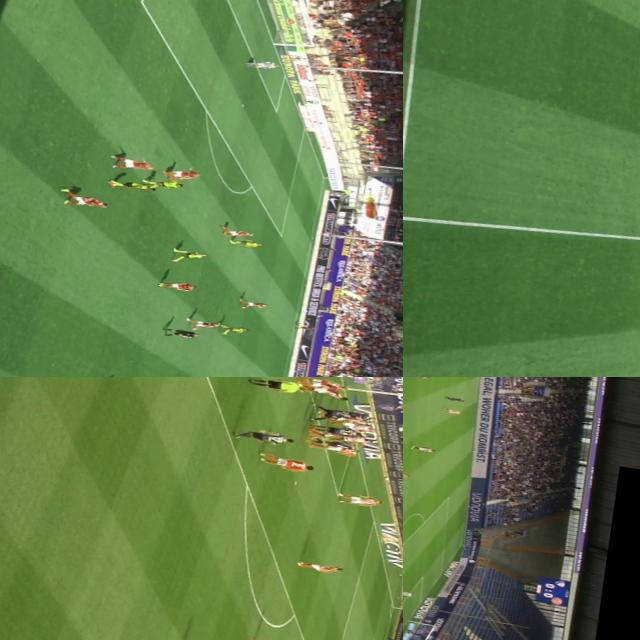player: (238, 428, 293, 448), (259, 454, 317, 472), (61, 192, 112, 212), (104, 176, 160, 194), (301, 386, 350, 404), (307, 404, 351, 424), (106, 156, 155, 173), (293, 558, 343, 574), (168, 246, 210, 265), (297, 378, 348, 392), (338, 492, 382, 508), (308, 442, 358, 456), (330, 430, 372, 446), (159, 165, 198, 182), (312, 423, 356, 438), (145, 178, 184, 194), (155, 278, 196, 293), (312, 438, 356, 451), (244, 57, 278, 73), (230, 237, 265, 252), (336, 421, 376, 434), (184, 318, 219, 332), (218, 322, 248, 337), (238, 297, 268, 312), (219, 226, 254, 238), (341, 409, 375, 418), (408, 444, 435, 455), (442, 394, 468, 404), (335, 377, 384, 382), (403, 586, 417, 598), (441, 408, 463, 415), (404, 377, 431, 380), (403, 470, 411, 480)
